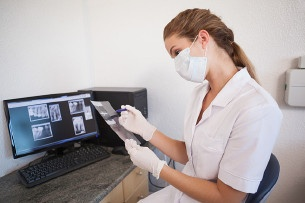Mask: (166, 43, 206, 83)
